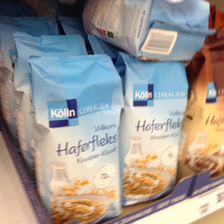cereal: (28, 55, 123, 223), (116, 53, 190, 204)
